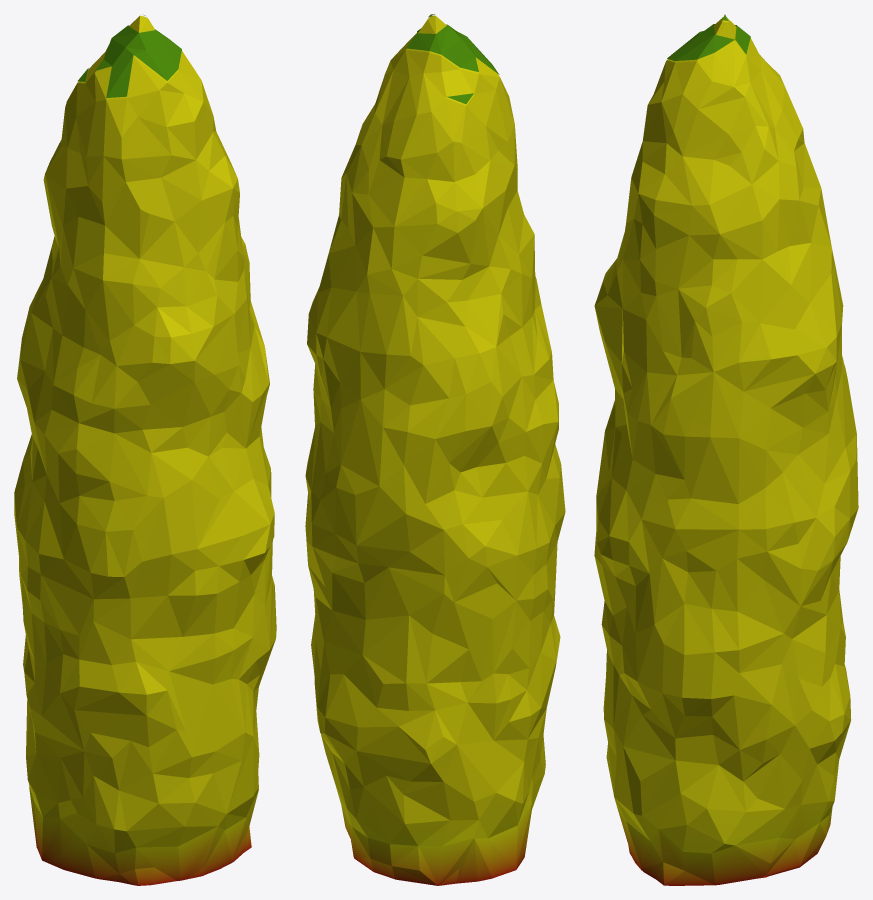
Rendered from canyon_pillar_3.glb.
The picture shows the model from 3 angles, left to right: view 1: azimuth 30°, elevation 25°; view 2: azimuth 150°, elevation 25°; view 3: azimuth 270°, elevation 25°; orthographic projection.
Parts seen in each view (by area): view 1: canyon_pillar_3.002; view 2: canyon_pillar_3.002; view 3: canyon_pillar_3.002.
Boxes of the visible parts, x1,y1,x2,y2 form: canyon_pillar_3.002: (14,15,276,885); canyon_pillar_3.002: (305,14,565,885); canyon_pillar_3.002: (594,14,858,885).
Size of what is drawn, in the model's own units: 12.1 by 42.52 by 12.23.
